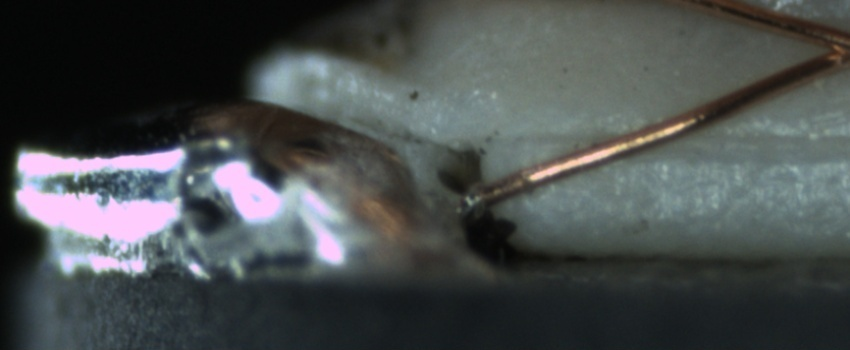CL: (797, 17, 850, 76)
DL: (507, 107, 846, 174)
